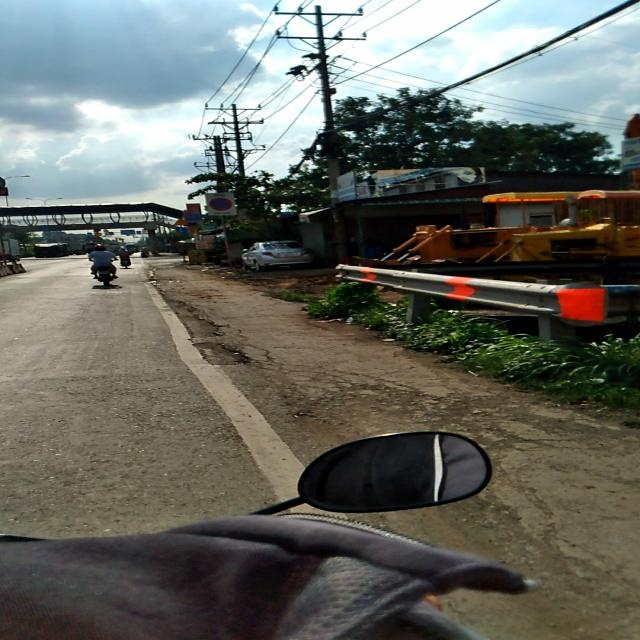bien_cam: (210, 197, 232, 211)
